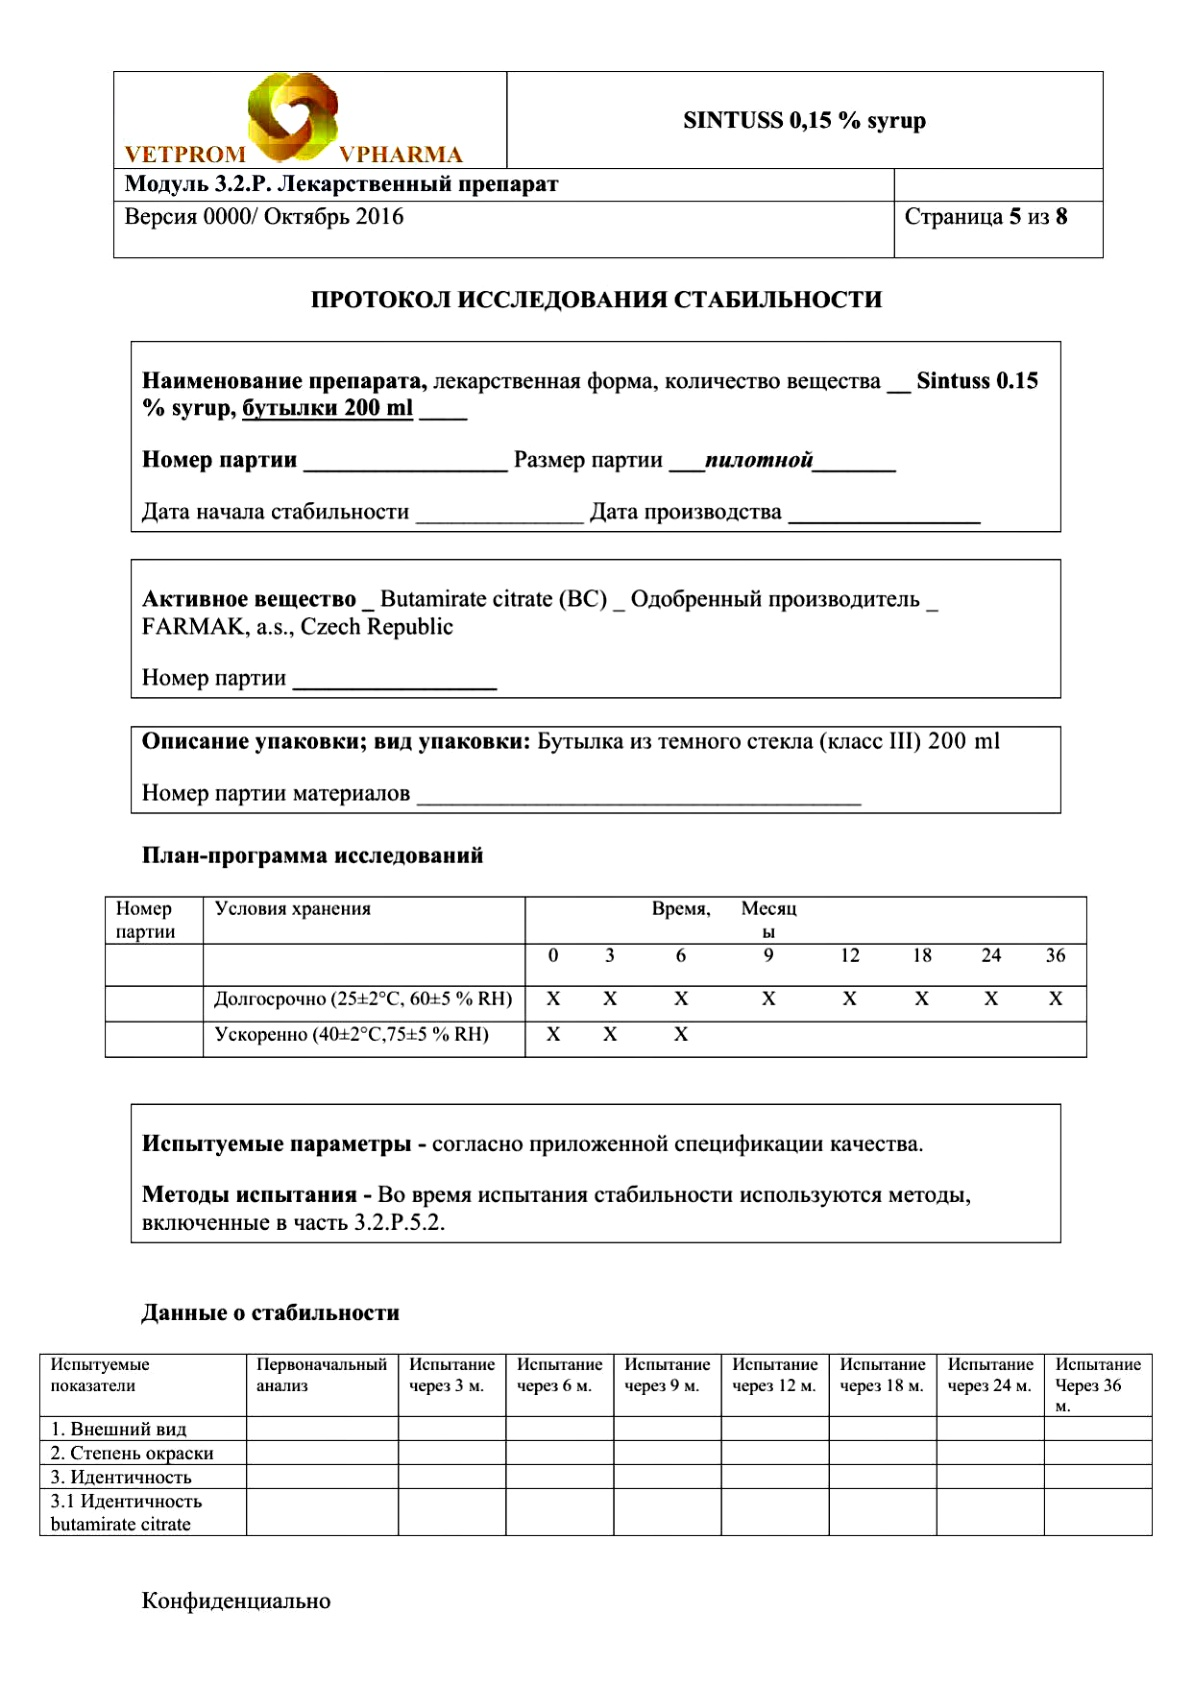full_lined: (37, 1353, 1154, 1537), (103, 895, 1088, 1057)
merged_cells: (112, 68, 1105, 260)
